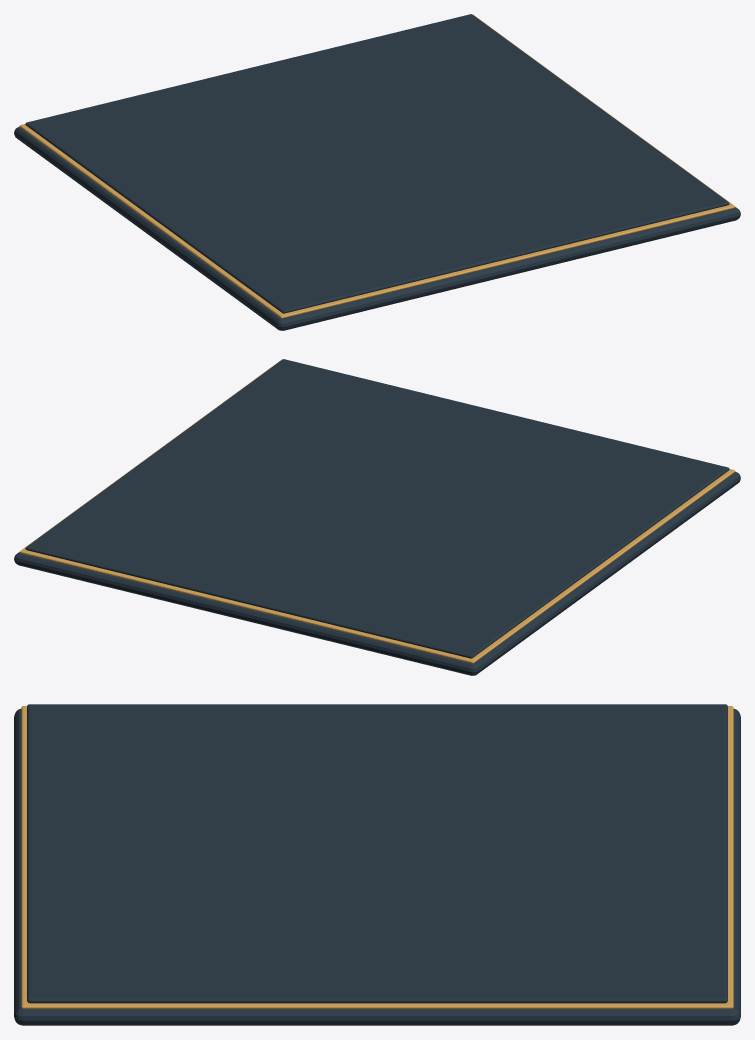
Rendered from board_base.glb.
3 renders of one model, top to bottom at view 1: azimuth 30°, elevation 25°; view 2: azimuth 150°, elevation 25°; view 3: azimuth 270°, elevation 25°, orthographic. The views are drawn at different scales.
Parts seen in each view (by area): view 1: Board_Base; view 2: Board_Base; view 3: Board_Base.
Boxes of the visible parts, bbox=[...] form: Board_Base: bbox=[14, 14, 740, 330]; Board_Base: bbox=[14, 359, 740, 675]; Board_Base: bbox=[14, 704, 740, 1025].
Size of the model in its own units: 9.7 by 0.3475 by 9.7.
